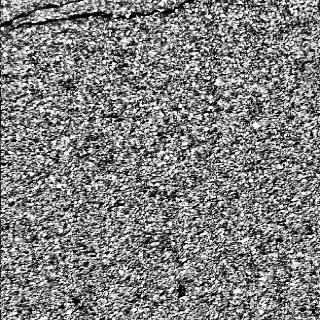crack: (0, 0, 197, 34)
